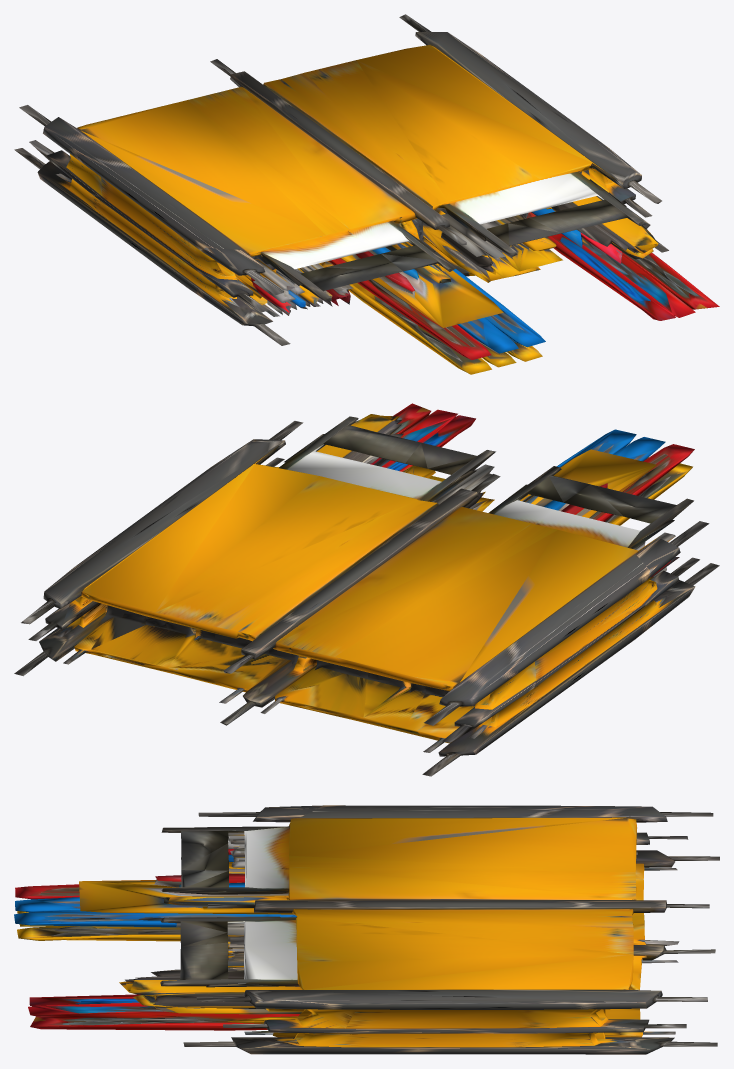
The model's file is wall_panel_01.glb.
3 views of the same model, one above another, from view 1: azimuth 30°, elevation 25°; view 2: azimuth 150°, elevation 25°; view 3: azimuth 270°, elevation 25° (orthographic). The views are drawn at different scales.
Visible parts, largest first — view 1: wall_panel_01; view 2: wall_panel_01; view 3: wall_panel_01.
Part boxes in pixels (x1,y1,x2,y2): wall_panel_01: (14,14,719,374); wall_panel_01: (14,403,719,776); wall_panel_01: (14,805,719,1054).
Bounding box in the file's own units: 7.99 × 0.9873 × 11.97.
Materials: 1 (1 with a texture image).
